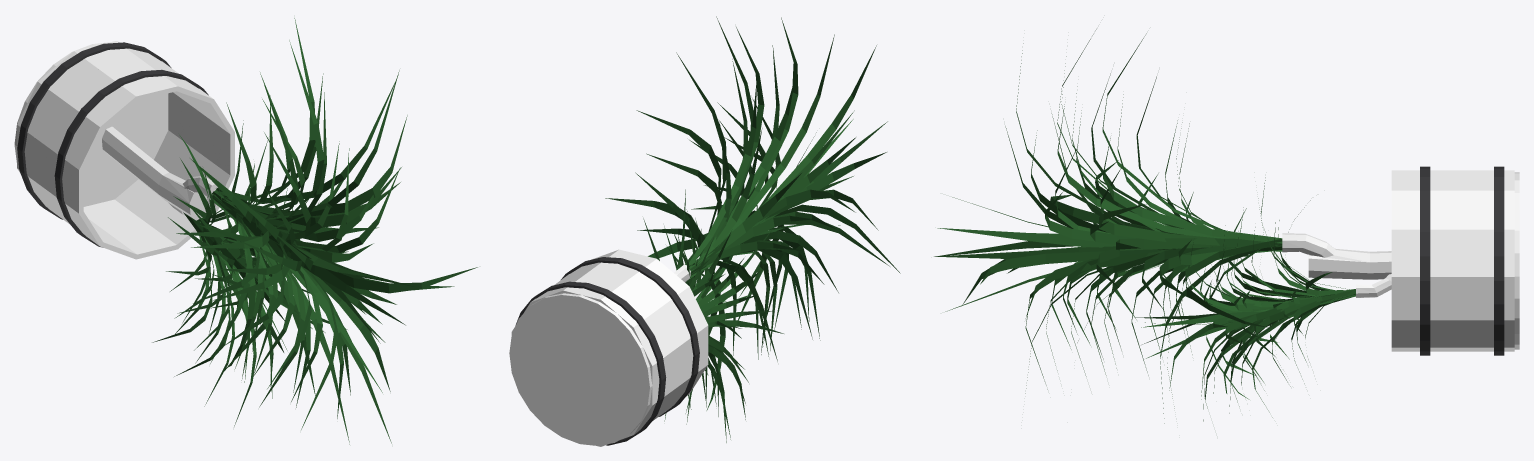
3 views of the same model, side by side, from view 1: azimuth 30°, elevation 25°; view 2: azimuth 150°, elevation 25°; view 3: azimuth 270°, elevation 25° (orthographic). The views are drawn at different scales.
Parts seen in each view (by area): view 1: yucca elephantipes; view 2: yucca elephantipes; view 3: yucca elephantipes.
Boxes of the visible parts, x1,y1,x2,y2 form: yucca elephantipes: (14, 18, 477, 444); yucca elephantipes: (509, 16, 900, 446); yucca elephantipes: (934, 29, 1519, 423).
Size of the model in its own units: 38.47 by 64.67 by 79.93.
